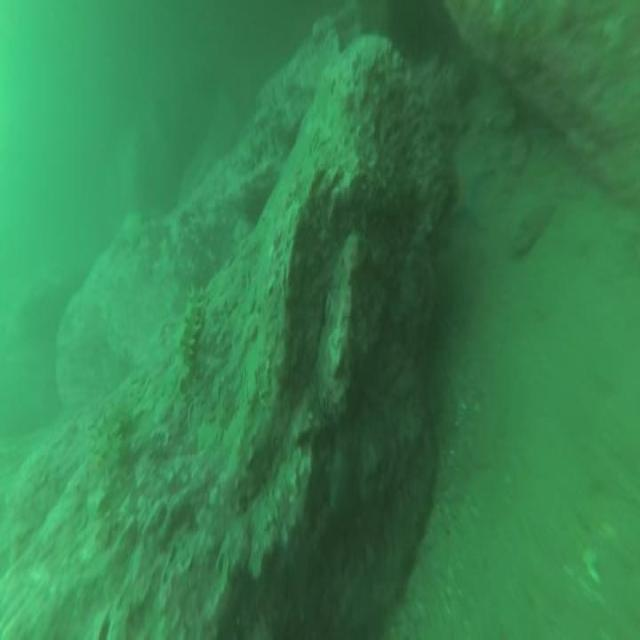holothurian: (86, 398, 132, 509), (175, 278, 212, 387)
